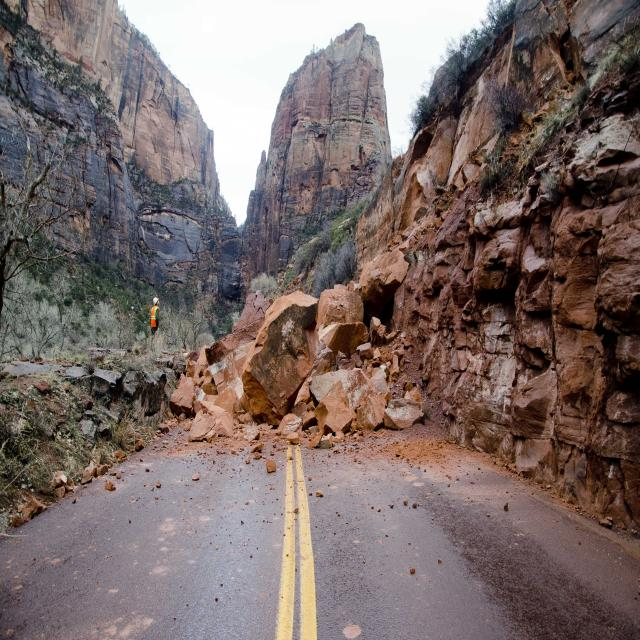landSliding: (163, 280, 527, 528)
